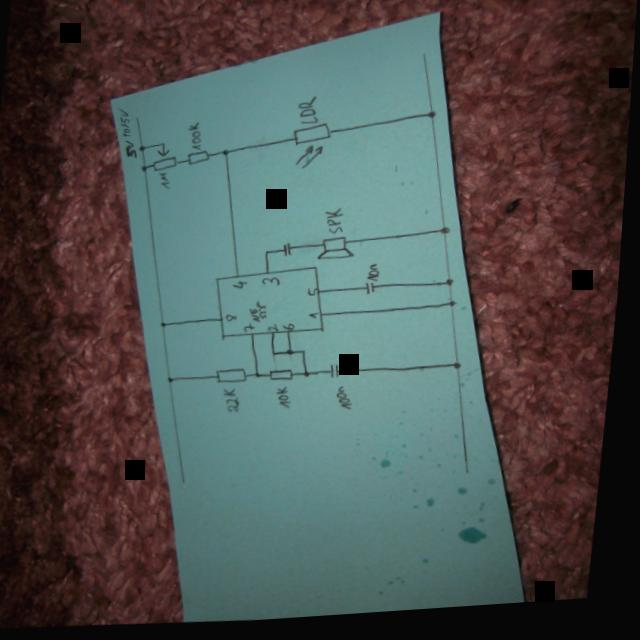capacitor: (332, 367, 346, 384), (284, 245, 297, 260), (367, 286, 380, 300)
junction: (442, 230, 454, 241), (428, 114, 439, 125), (448, 283, 458, 293), (141, 165, 150, 174), (307, 373, 316, 382), (457, 367, 467, 375), (223, 150, 231, 159), (452, 305, 460, 313), (274, 354, 282, 361), (258, 374, 266, 381), (266, 251, 273, 258), (140, 147, 148, 153), (290, 353, 298, 359), (304, 353, 312, 359), (164, 324, 171, 330), (172, 378, 178, 384)
resistor: (290, 125, 334, 174), (151, 144, 182, 175), (217, 370, 253, 388), (272, 371, 299, 386), (188, 152, 212, 168)
terminal: (421, 56, 428, 63), (187, 481, 194, 487), (135, 117, 141, 123), (470, 475, 476, 481)
text: (114, 108, 143, 161), (295, 98, 322, 129), (325, 210, 348, 239), (187, 124, 206, 154), (339, 389, 360, 415), (226, 390, 247, 416), (251, 303, 272, 327), (279, 388, 299, 413), (370, 267, 386, 287), (158, 174, 174, 192), (264, 279, 284, 291), (235, 282, 252, 293), (247, 325, 260, 336), (310, 291, 324, 300), (271, 326, 283, 335), (229, 316, 241, 325), (286, 326, 299, 334), (312, 316, 324, 323)
